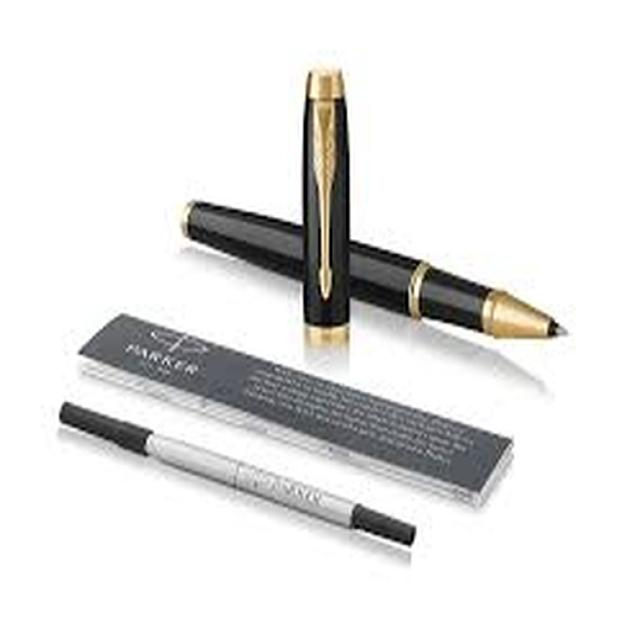pen: (0, 392, 511, 500), (127, 206, 598, 312), (29, 324, 581, 391), (282, 55, 363, 360)
